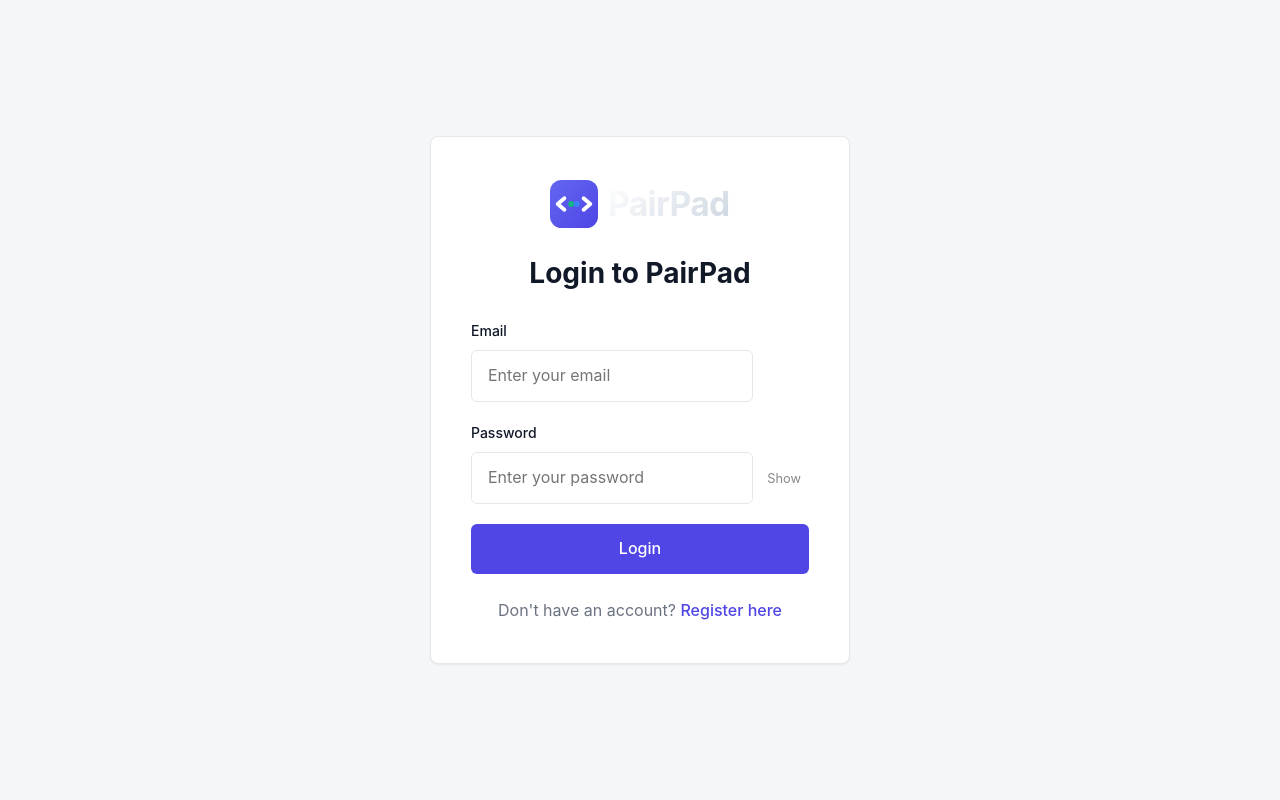
Test case: auth pages › logs in and navigates to the dashboard using data.token
The width and height of the screenshot is (1280, 800).
In the field labelled "Email": [612, 376] box [471,350,753,402], type "ada@example.com"
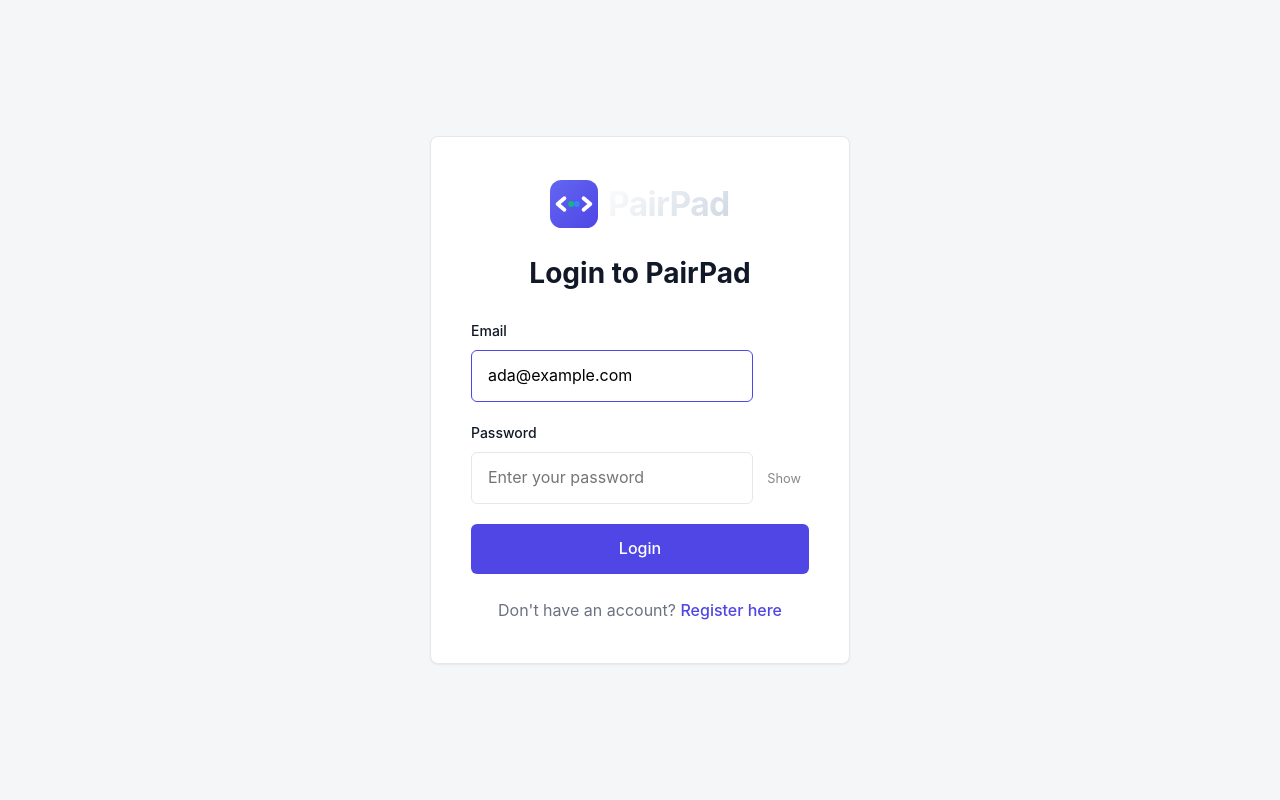
In the password field labelled "Password": [612, 478] box [471,452,753,504], type "password123"
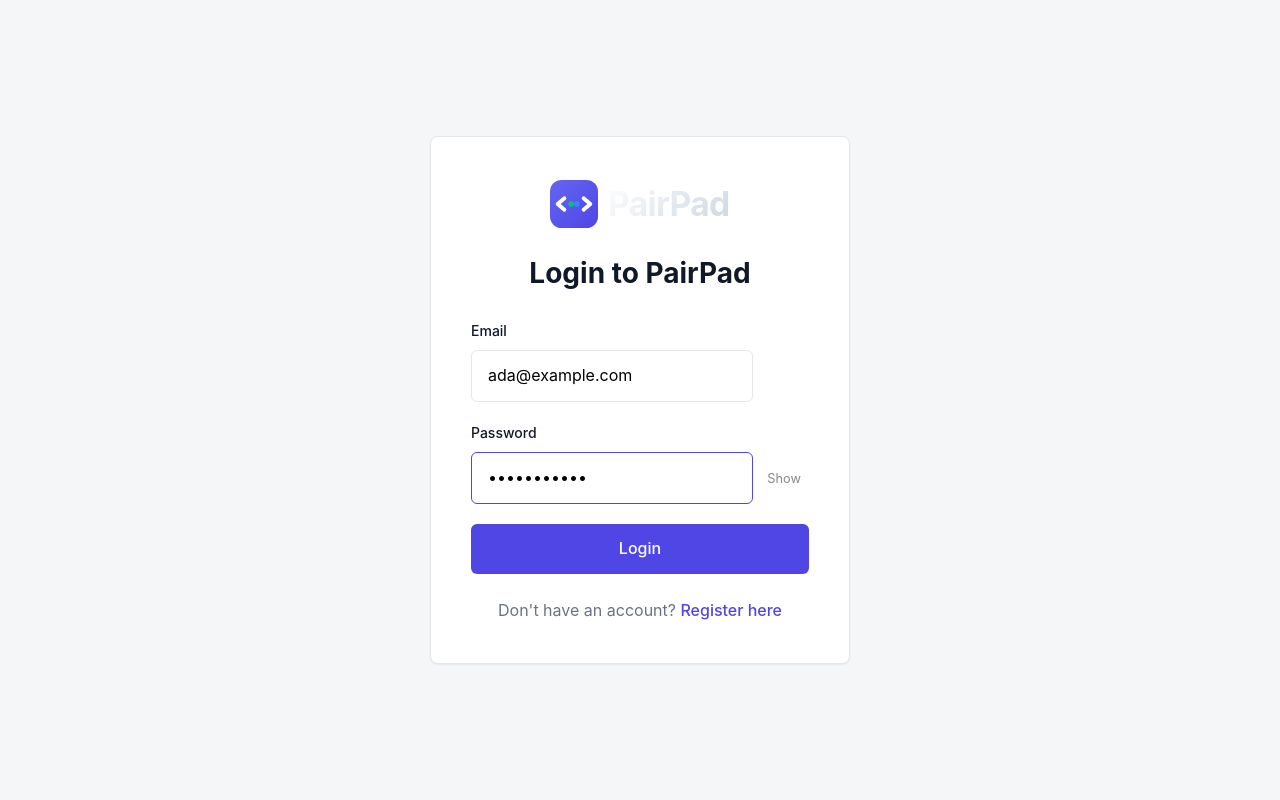
Click the button "Login": [640, 549] box [471,524,809,574]
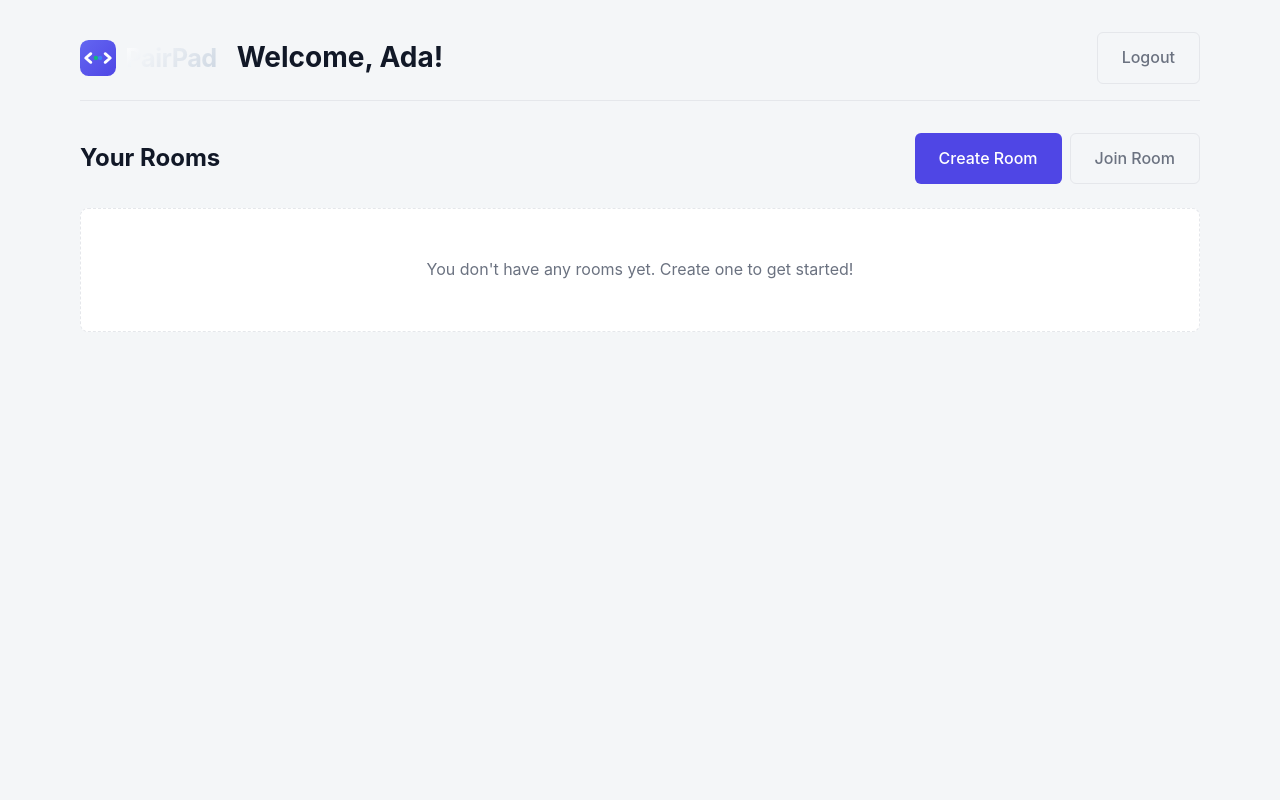
Now the heading "Welcome, Ada!" is shown, box [237,35,443,80]
